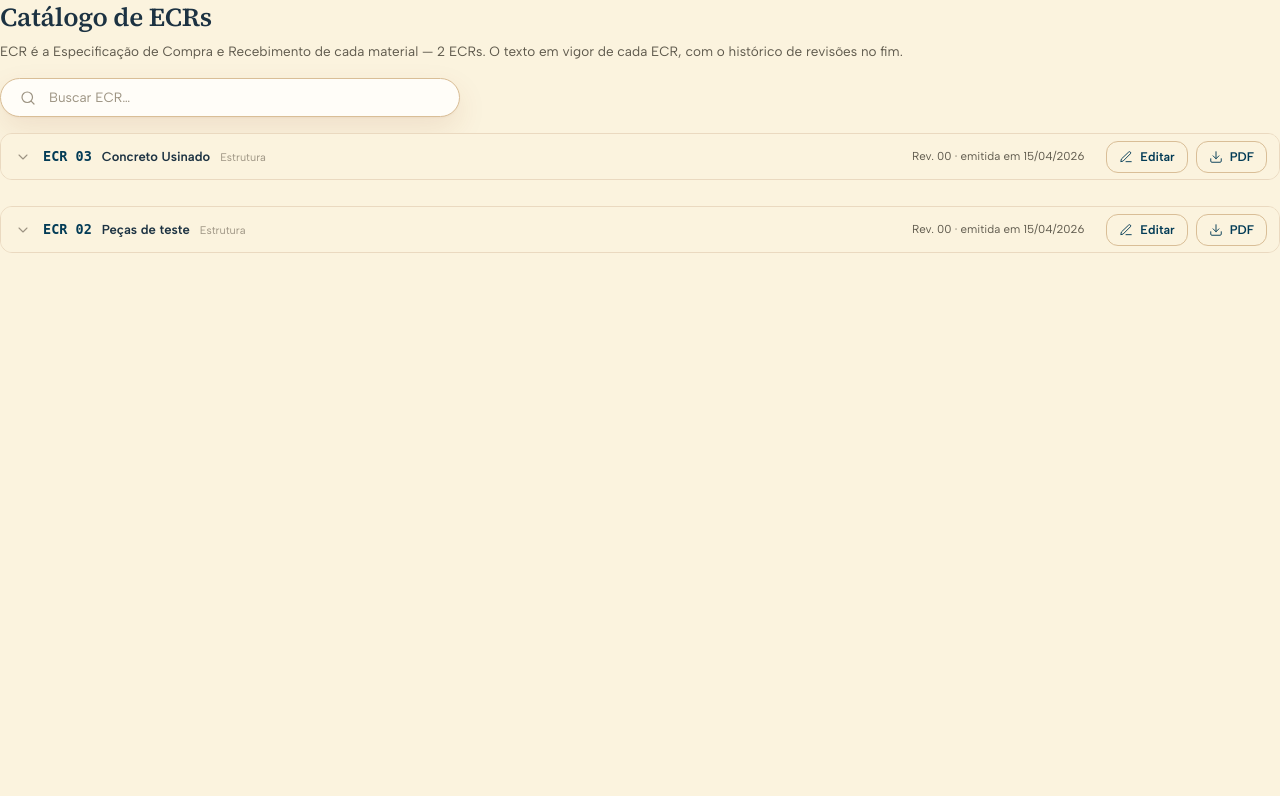
Test case: D589 §4.2 — a ECR em edição › abre com o texto vigente em cada linha, marca "Em edição", e as outras ECRs não oferecem "Editar"
Click the button with aria-label "Editar a ECR 03": (1147, 157) [1106,141,1188,173]
(page scrolled)
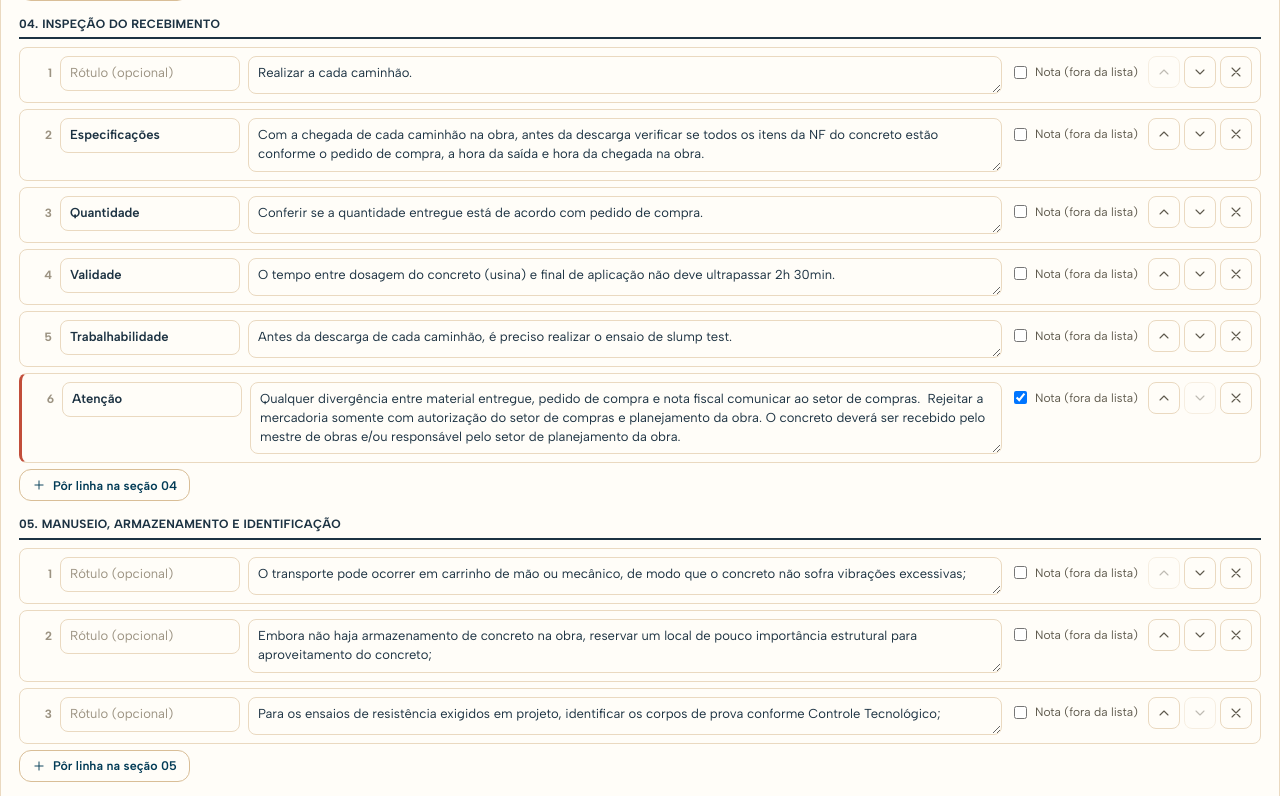
Expected: the 6th checkbox labelled "Nota (fora da lista)" is checked, [1014,391,1027,404]
